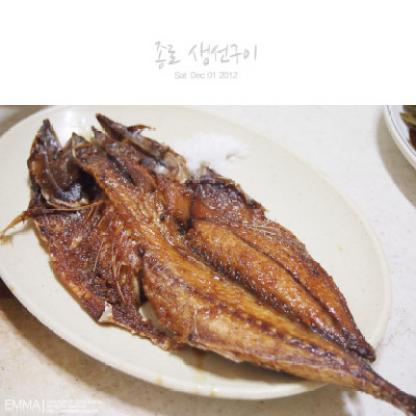Peixe: (11, 110, 416, 408)
